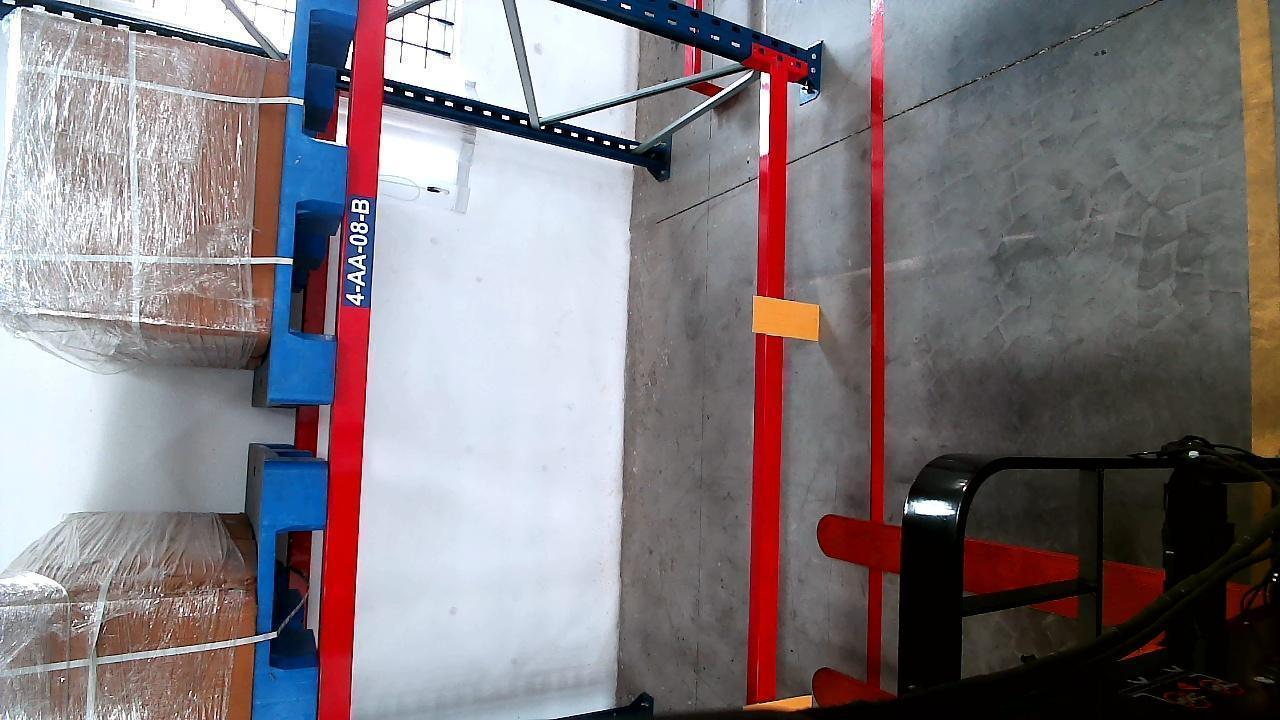red_line: (866, 0, 892, 675)
yellow_line: (1243, 0, 1278, 461)
